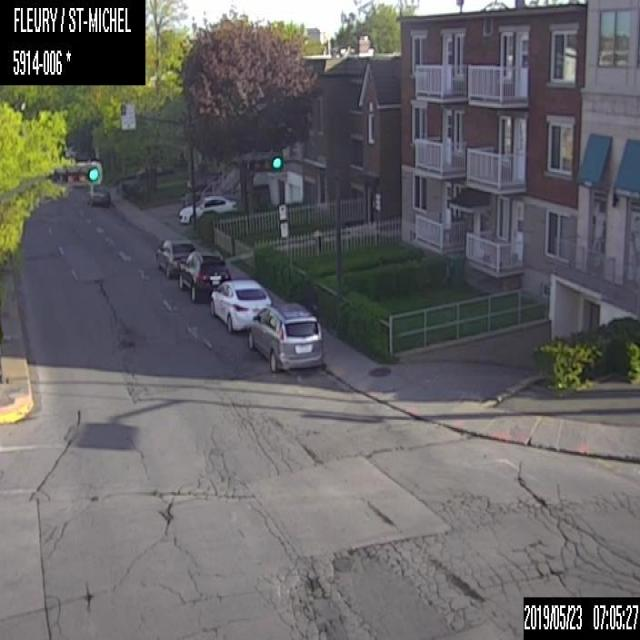vehicle: (244, 300, 324, 374), (207, 272, 274, 334), (176, 246, 232, 304), (177, 196, 237, 224), (156, 236, 194, 278), (85, 184, 111, 207)
